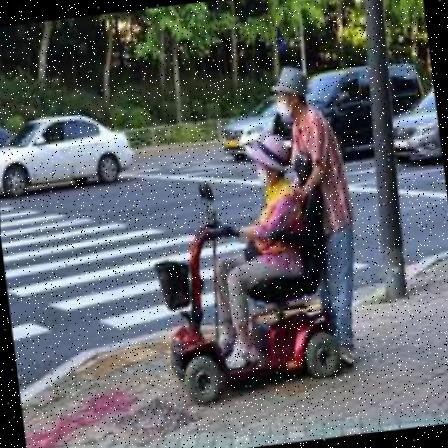silver: (266, 58, 368, 375)
wheel: (143, 130, 344, 404)
